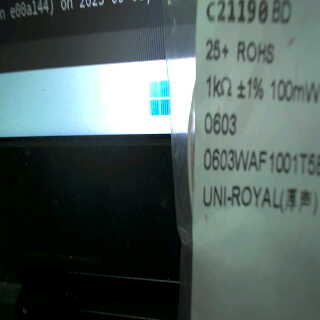1kR: (205, 70, 237, 104)
